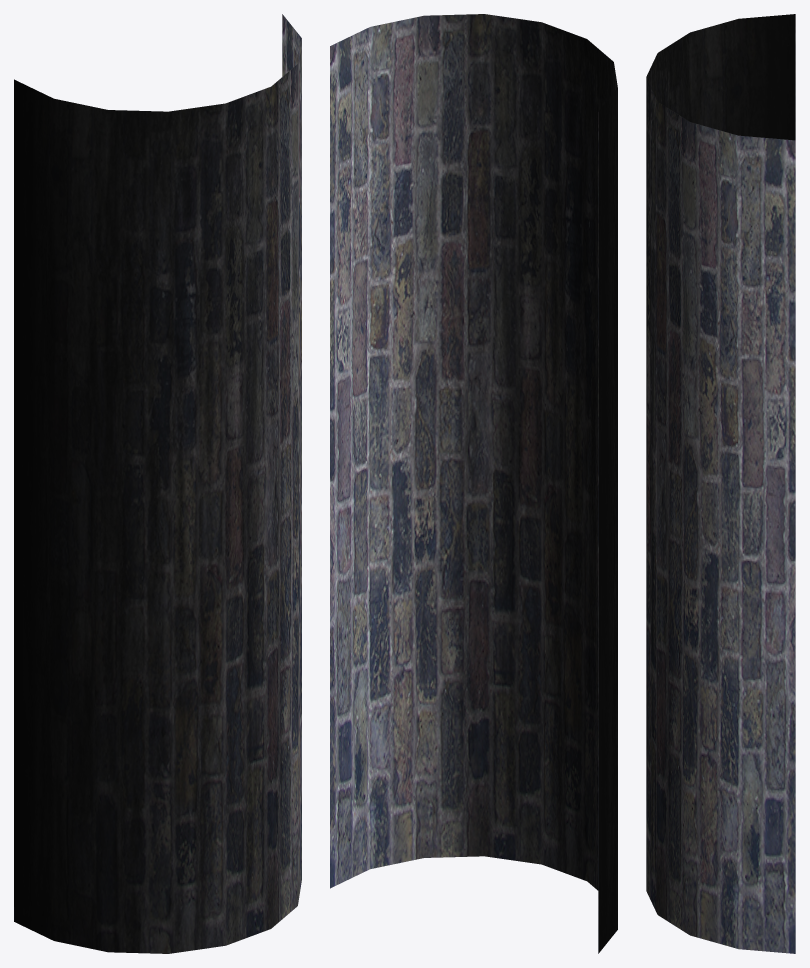
The model's file is pitGeo1b.fbx.
3 views of the same model, side by side, from view 1: azimuth 30°, elevation 25°; view 2: azimuth 150°, elevation 25°; view 3: azimuth 270°, elevation 25° (orthographic). The views are drawn at different scales.
Parts seen in each view (by area): view 1: pitGeo; view 2: pitGeo; view 3: pitGeo.
Part boxes in pixels (x1,y1,x2,y2): pitGeo: (14,14,301,953); pitGeo: (330,14,617,953); pitGeo: (646,14,795,953).
Bounding box in the file's own units: 2 × 6 × 1.
